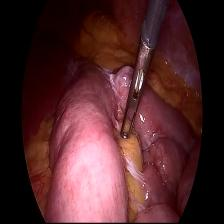Grasper: (120, 38, 154, 139)
